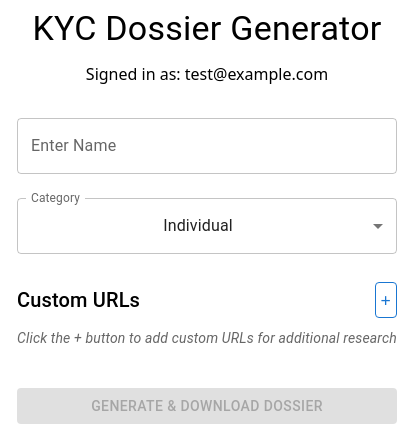
App Integration › shows loading state during submission
// Fill in name
In the field labelled "Enter Name": (207, 146) [17,118,397,174], type "John Doe"
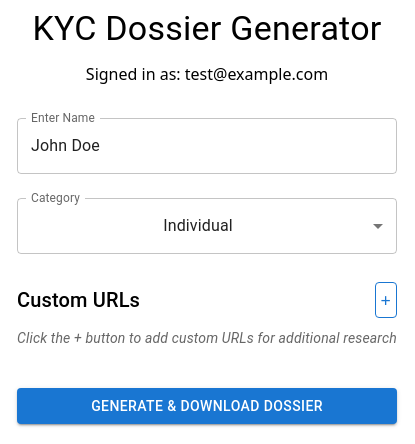
Click the button "Generate & Download Dossier": click(207, 406) [17,388,397,424]
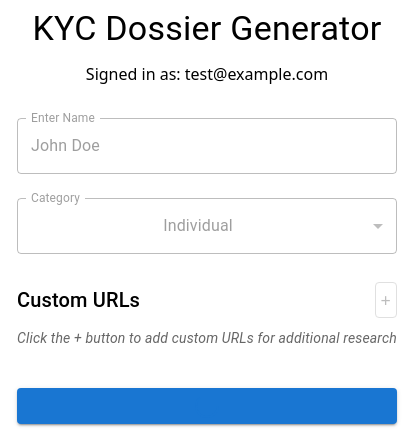
Expected: the button named "generate & download dossier" is enabled, [17,388,397,424]
Expected: the button "Generate & Download Dossier" is gone
